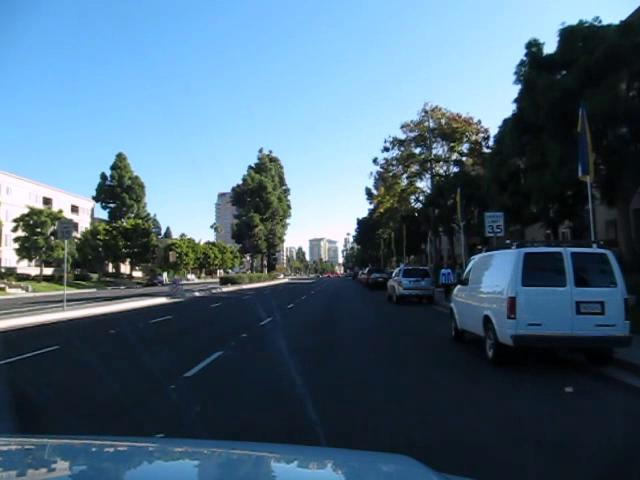speedLimit35: (484, 211, 504, 235)
